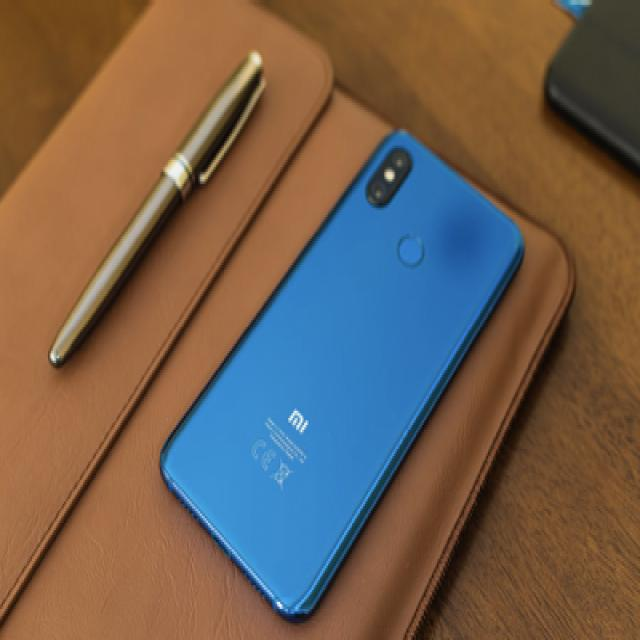cellphone: (158, 124, 525, 623)
